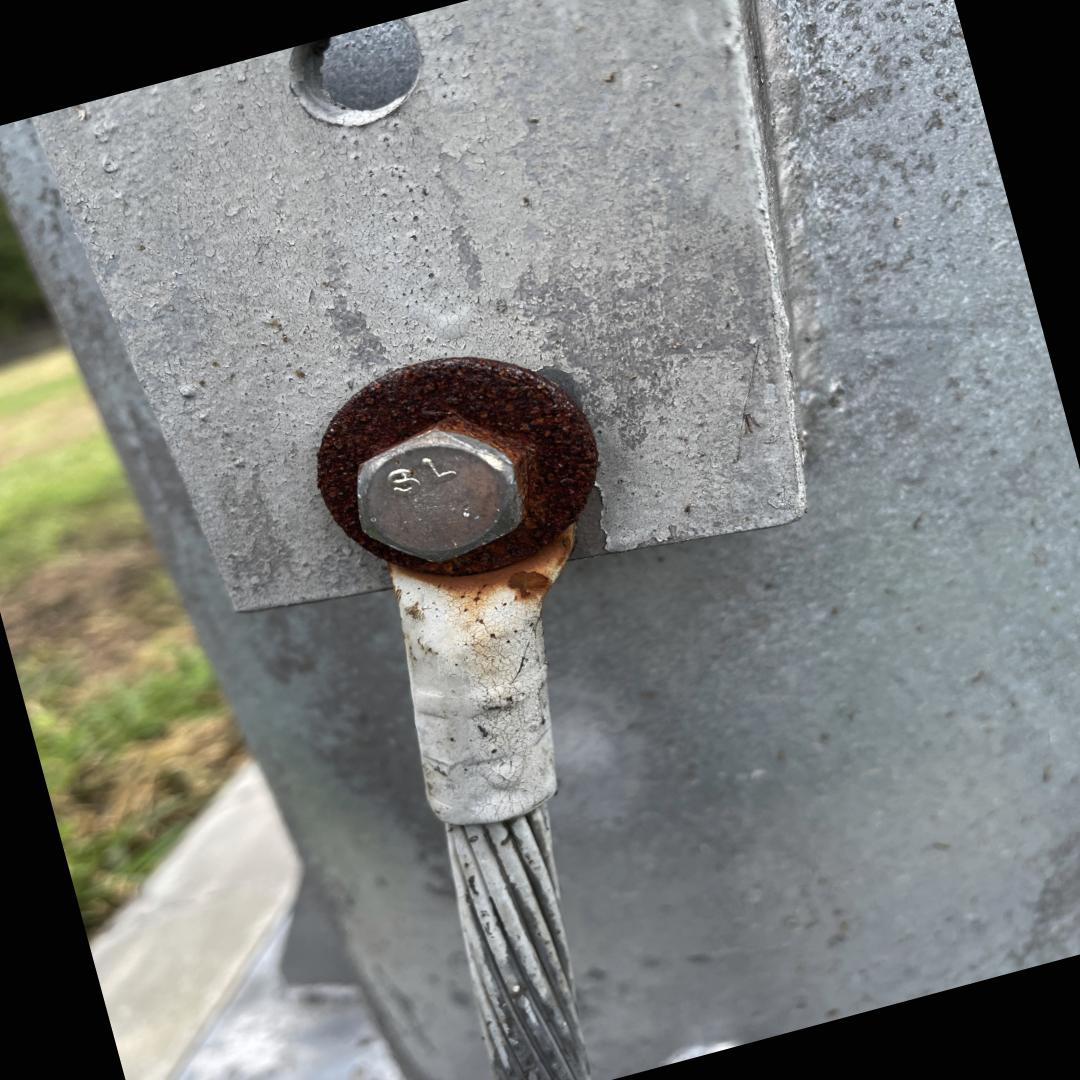Metal: (34, 0, 806, 609)
Metal corroido: (316, 355, 607, 605)
Tornillo sin corrosion: (357, 432, 522, 566)
